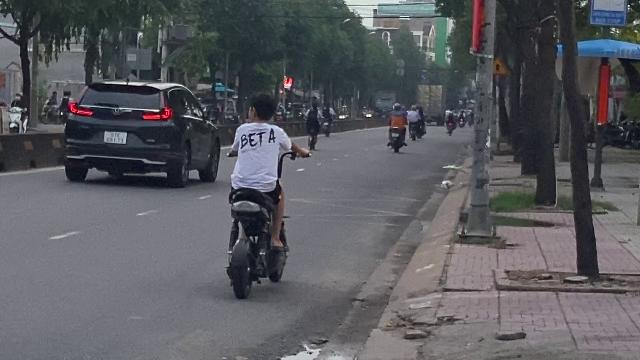motorcyclist: (218, 89, 298, 299)
nohelmet: (246, 92, 278, 122)
